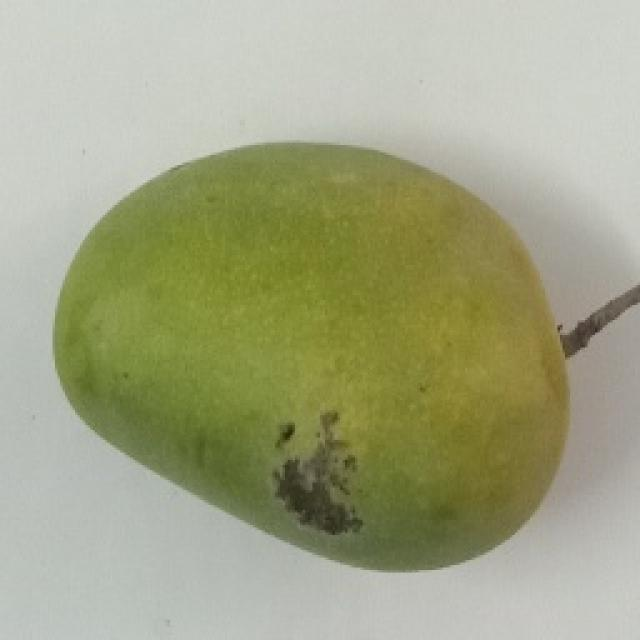defective: (50, 135, 638, 572)
